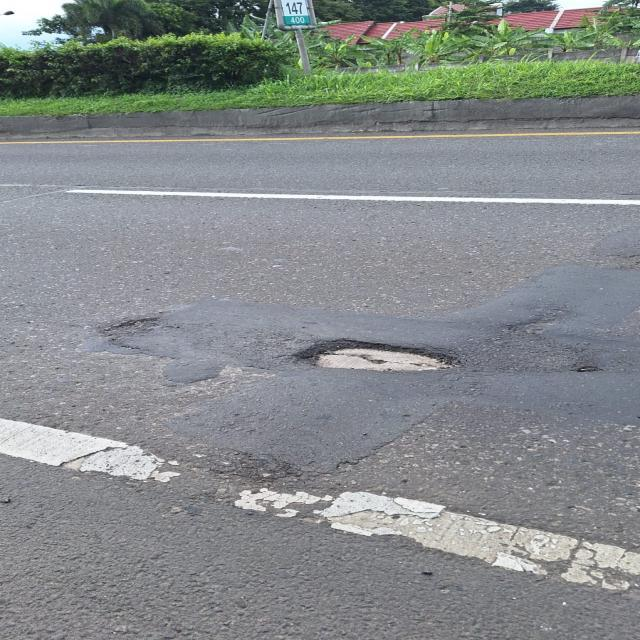Buraco: (290, 336, 468, 376), (99, 315, 163, 340)
